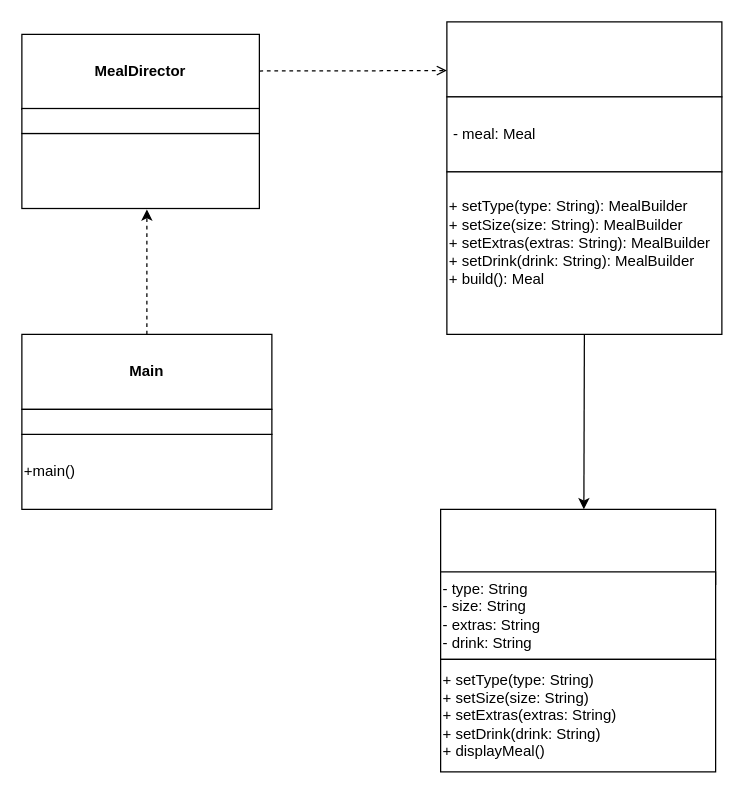
Image size: 744x794. Some labels were removed from this diagram. The centre of each missing label's shape, as x and y in pixels:
"+ makeBurgerMeal(): Meal + makePizzaMeal(): Meal" goes at (x=140, y=170).
"Meal" goes at (x=577, y=546).
"MealBuilder" goes at (x=584, y=59).
